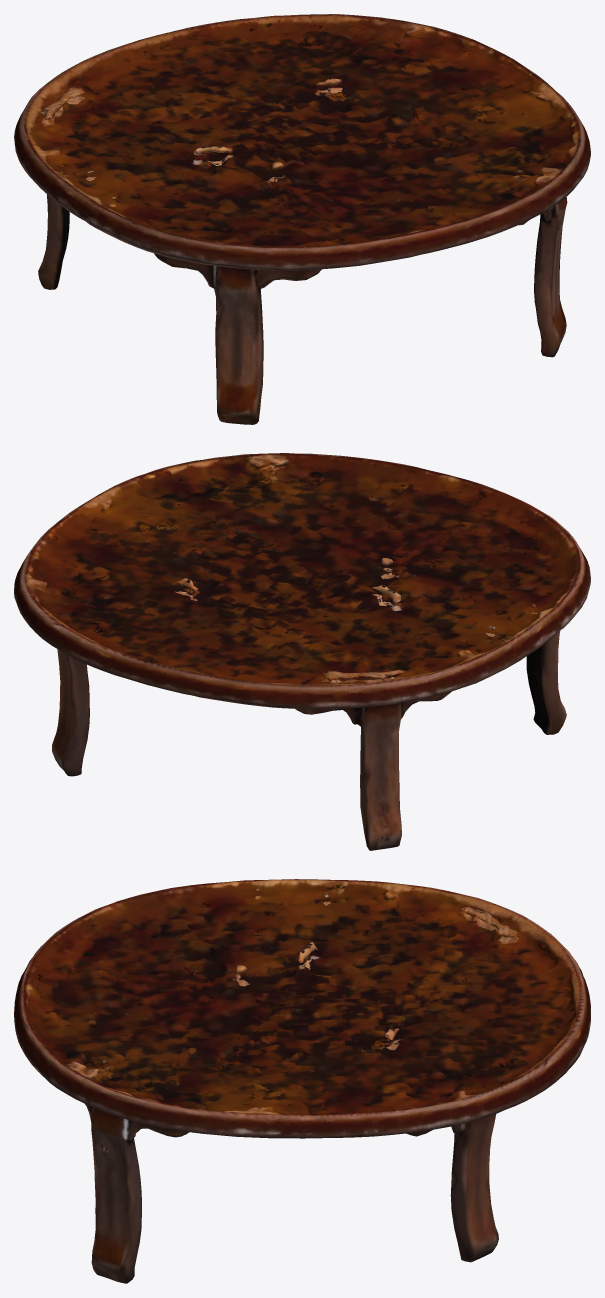
3 renders of one model, top to bottom at view 1: azimuth 30°, elevation 25°; view 2: azimuth 150°, elevation 25°; view 3: azimuth 270°, elevation 25°, orthographic. The views are drawn at different scales.
Visible parts, largest first — view 1: Mesh_0; view 2: Mesh_0; view 3: Mesh_0.
Boxes of the visible parts, box(x1,y1,x2,y2) form: Mesh_0: box(14, 14, 590, 424); Mesh_0: box(14, 453, 590, 850); Mesh_0: box(14, 879, 590, 1283).
Size of the model in its own units: 0.9486 by 0.37 by 0.9462.
1 material, 1 textured.
